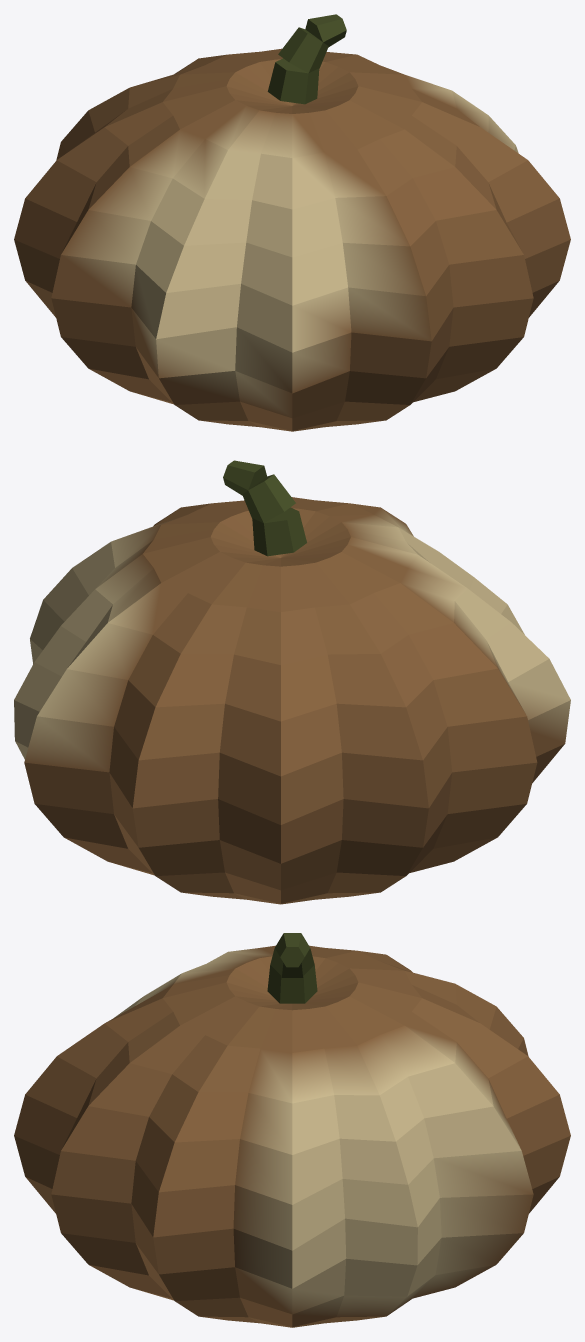
File: pumpkin_prize_sad_gnawed.glb
The picture shows the model from 3 angles, top to bottom: view 1: azimuth 30°, elevation 25°; view 2: azimuth 150°, elevation 25°; view 3: azimuth 270°, elevation 25°; orthographic projection. The views are drawn at different scales.
Visible parts, largest first — view 1: Pumpkin; view 2: Pumpkin; view 3: Pumpkin.
Part boxes in pixels (left/top/right/bottom): Pumpkin: left=14, top=14, right=570, bottom=431; Pumpkin: left=14, top=460, right=570, bottom=904; Pumpkin: left=14, top=933, right=570, bottom=1327.
Size of the model in its own units: 0.6924 by 0.5142 by 0.7.
